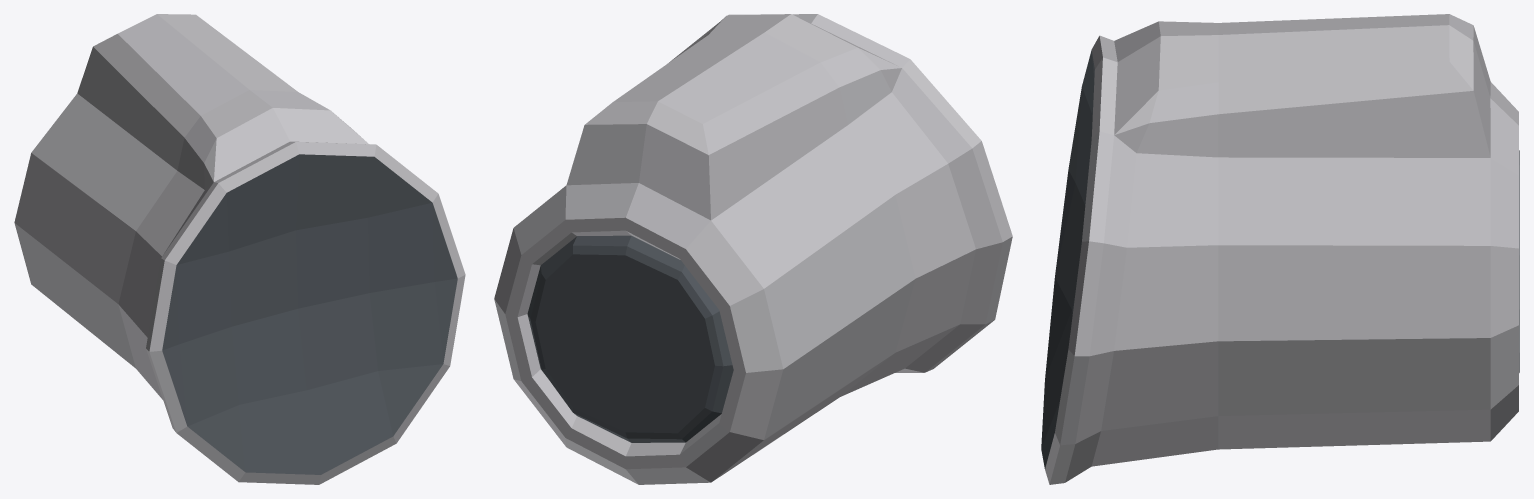
The model's file is Personal_Vehicle_04_Thruster.fbx.
3 views of the same model, side by side, from view 1: azimuth 30°, elevation 25°; view 2: azimuth 150°, elevation 25°; view 3: azimuth 270°, elevation 25° (orthographic). The views are drawn at different scales.
Visible parts, largest first — view 1: Personal_Vehicle_04_Thruster; view 2: Personal_Vehicle_04_Thruster; view 3: Personal_Vehicle_04_Thruster.
Part boxes in pixels (x1,y1,x2,y2): Personal_Vehicle_04_Thruster: [14, 14, 465, 484]; Personal_Vehicle_04_Thruster: [494, 14, 1012, 484]; Personal_Vehicle_04_Thruster: [1041, 14, 1519, 484].
Bounding box in the file's own units: 80.27 × 85.42 × 84.6.
Materials: 1 (1 with a texture image).
